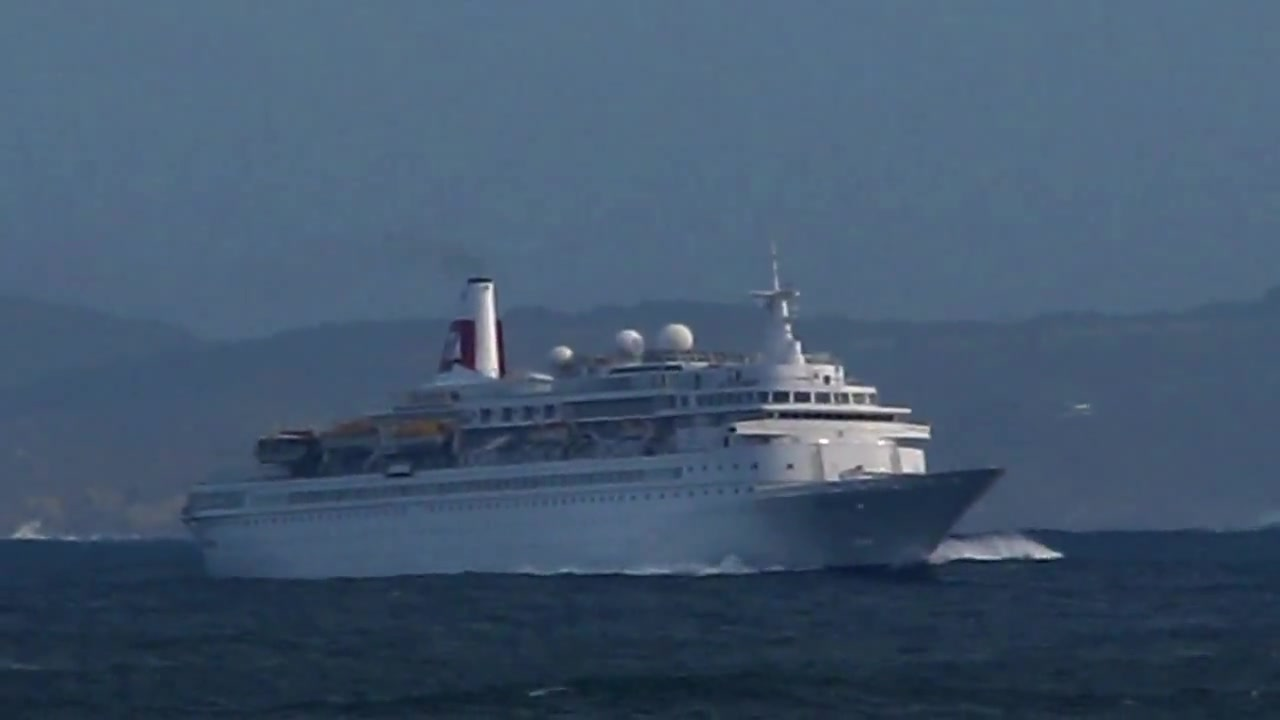boat: (181, 243, 1010, 582)
